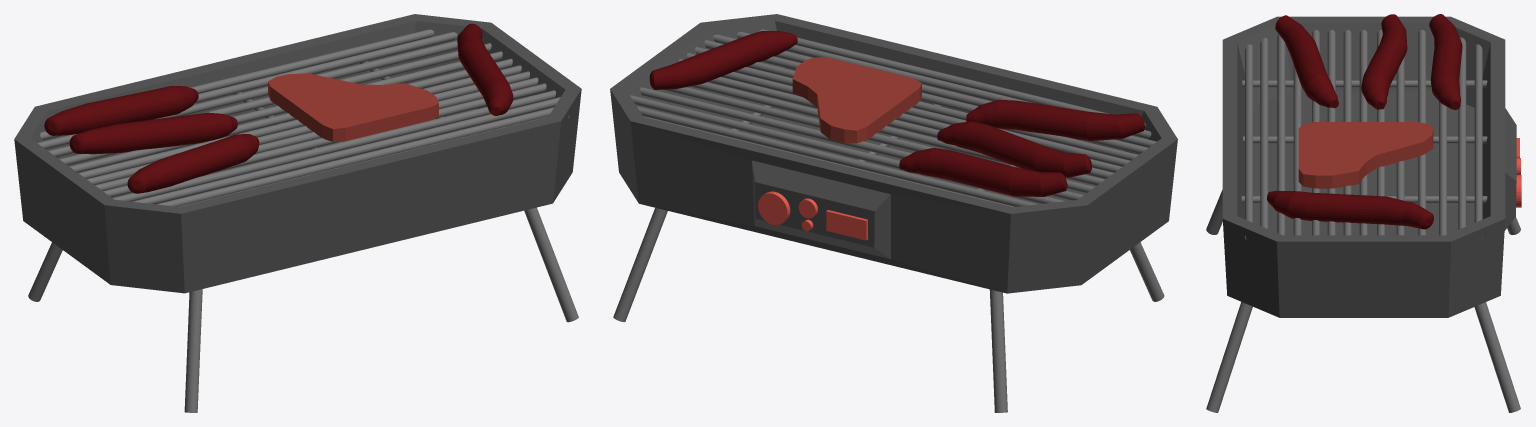
The model's file is Barbecue.fbx.
3 renders of one model, left to right at view 1: azimuth 30°, elevation 25°; view 2: azimuth 150°, elevation 25°; view 3: azimuth 270°, elevation 25°, orthographic. The views are drawn at different scales.
Visible parts, largest first — view 1: Cube, Cube.002, Cylinder.023, Cylinder.020, Cylinder.022, Cylinder.010, Cylinder.024, Cylinder.007, Cylinder.009, Cylinder.021, Cylinder.011, Cylinder.012 (+8 smaller); view 2: Cube, Cube.002, Cylinder.024, Cylinder.022, Cylinder.020, Cylinder.023, Cylinder.021, Cylinder.012, Cylinder.011, Cylinder, Cylinder.008, Cylinder.002 (+11 smaller); view 3: Cube, Cube.002, Cylinder.021, Cylinder.020, Cylinder.024, Cylinder.023, Cylinder.022, Cylinder.009, Cylinder.014, Cylinder.010, Cylinder.012, Cylinder.008 (+12 smaller).
Boxes of the visible parts, x1=… form: Cube: x1=14, y1=14, x2=581, y2=293; Cube.002: x1=268, y1=73, x2=438, y2=141; Cylinder.023: x1=69, y1=112, x2=237, y2=154; Cylinder.020: x1=28, y1=207, x2=578, y2=412; Cylinder.022: x1=44, y1=86, x2=198, y2=135; Cylinder.010: x1=132, y1=97, x2=560, y2=204; Cylinder.024: x1=127, y1=134, x2=259, y2=193; Cylinder.007: x1=112, y1=90, x2=555, y2=201; Cylinder.009: x1=156, y1=107, x2=554, y2=206; Cylinder.021: x1=457, y1=23, x2=513, y2=115; Cylinder.011: x1=37, y1=40, x2=457, y2=149; Cylinder.012: x1=40, y1=32, x2=457, y2=139; Cube: x1=610, y1=14, x2=1177, y2=293; Cube.002: x1=792, y1=57, x2=921, y2=143; Cylinder.024: x1=966, y1=99, x2=1144, y2=140; Cylinder.022: x1=899, y1=148, x2=1067, y2=196; Cylinder.020: x1=613, y1=208, x2=1164, y2=412; Cylinder.023: x1=937, y1=121, x2=1091, y2=177; Cylinder.021: x1=649, y1=30, x2=797, y2=89; Cylinder.012: x1=637, y1=106, x2=1037, y2=206; Cylinder.011: x1=630, y1=95, x2=1065, y2=203; Cylinder: x1=640, y1=87, x2=1083, y2=200; Cylinder.008: x1=758, y1=29, x2=1145, y2=126; Cylinder.002: x1=689, y1=82, x2=1104, y2=185; Cube: x1=1222, y1=16, x2=1516, y2=317; Cube.002: x1=1298, y1=122, x2=1433, y2=188; Cylinder.021: x1=1267, y1=190, x2=1433, y2=229; Cylinder.020: x1=1206, y1=189, x2=1520, y2=412; Cylinder.024: x1=1275, y1=15, x2=1338, y2=108; Cylinder.023: x1=1361, y1=14, x2=1407, y2=109; Cylinder.022: x1=1429, y1=14, x2=1462, y2=109; Cylinder.009: x1=1260, y1=38, x2=1268, y2=228; Cylinder.014: x1=1474, y1=44, x2=1482, y2=239; Cylinder.010: x1=1277, y1=34, x2=1285, y2=235; Cylinder.012: x1=1458, y1=37, x2=1466, y2=229; Cylinder.008: x1=1245, y1=44, x2=1252, y2=239.
Size of the model in its own units: 2660 by 1160 by 1578.
